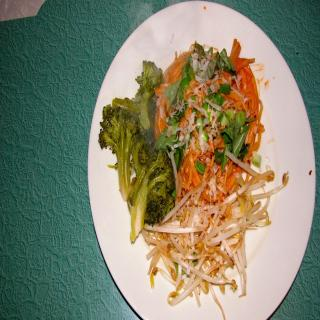Broccoli: (127, 141, 177, 245), (98, 105, 142, 202), (112, 58, 165, 134)
Salad: (95, 35, 287, 318)
